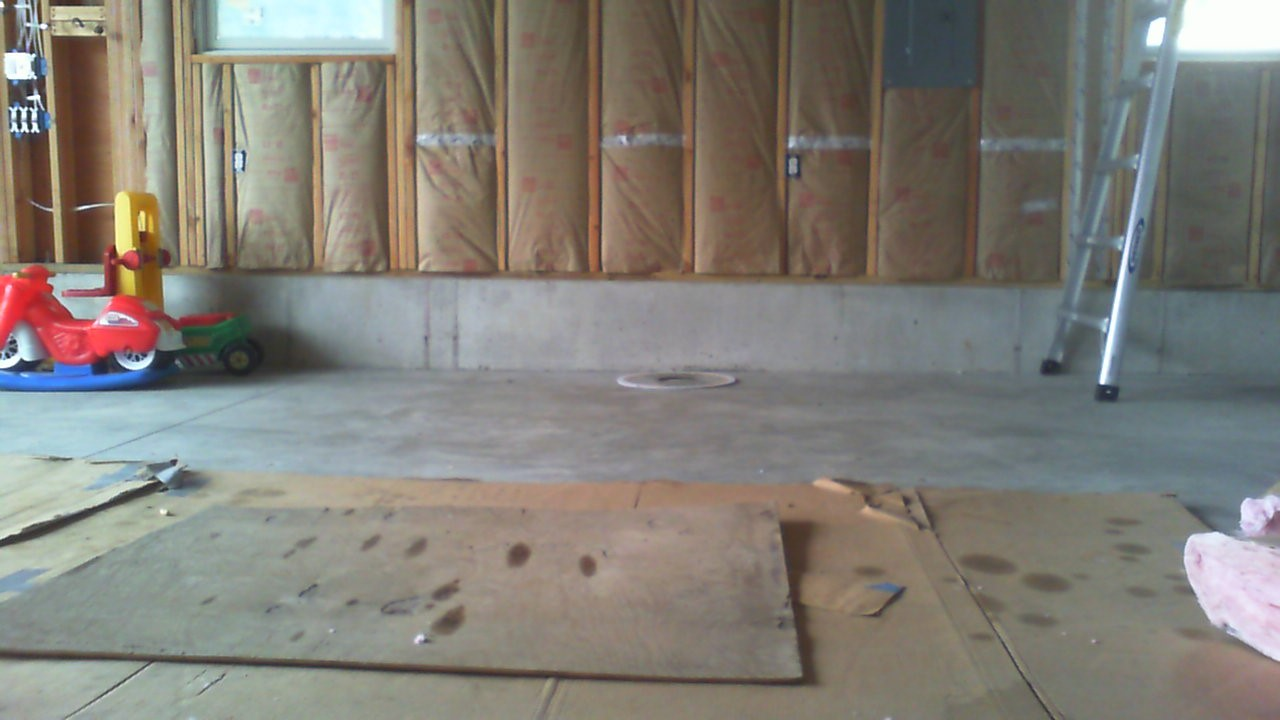Hatch: (617, 370, 734, 389)
